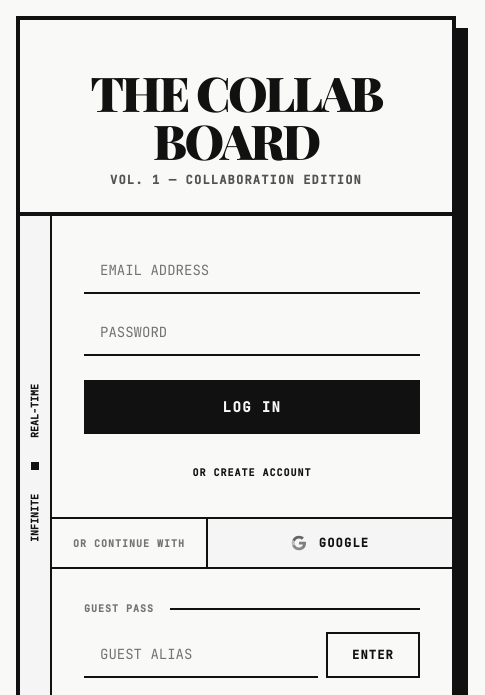
Test: LoginPage integration › toggles between sign in and sign up
Check: the button "LOG IN" is shown, box [84,380,420,434]
// Switch to sign-up — click the "Create account" link
Click the button "OR CREATE ACCOUNT" at (252, 472), box [184,460,320,485]
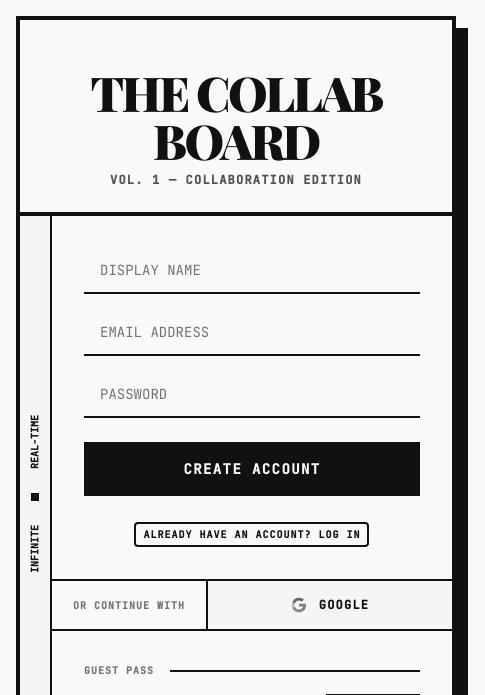
Check: the button "CREATE ACCOUNT" is shown, box [84,442,420,496]
Check: the field with placeholder "DISPLAY NAME" is shown, box [84,248,420,294]
// Switch back — click the "Log in" link
Click the button "ALREADY HAVE AN ACCOUNT? LOG IN" at (252, 534), box [134,522,370,547]
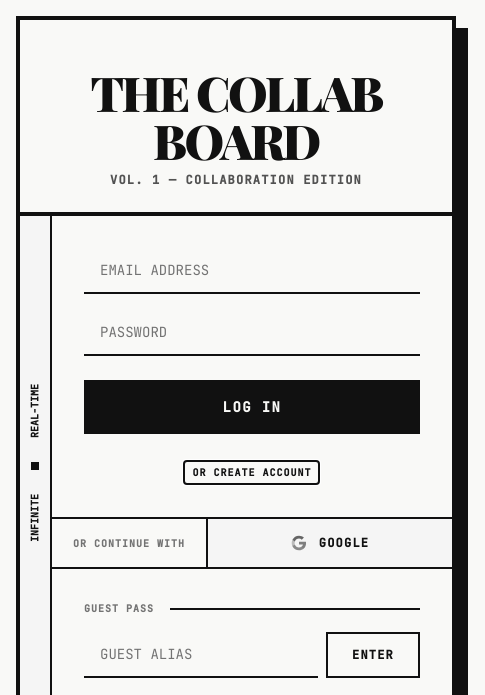
Check: the button "LOG IN" is shown, box [84,380,420,434]
